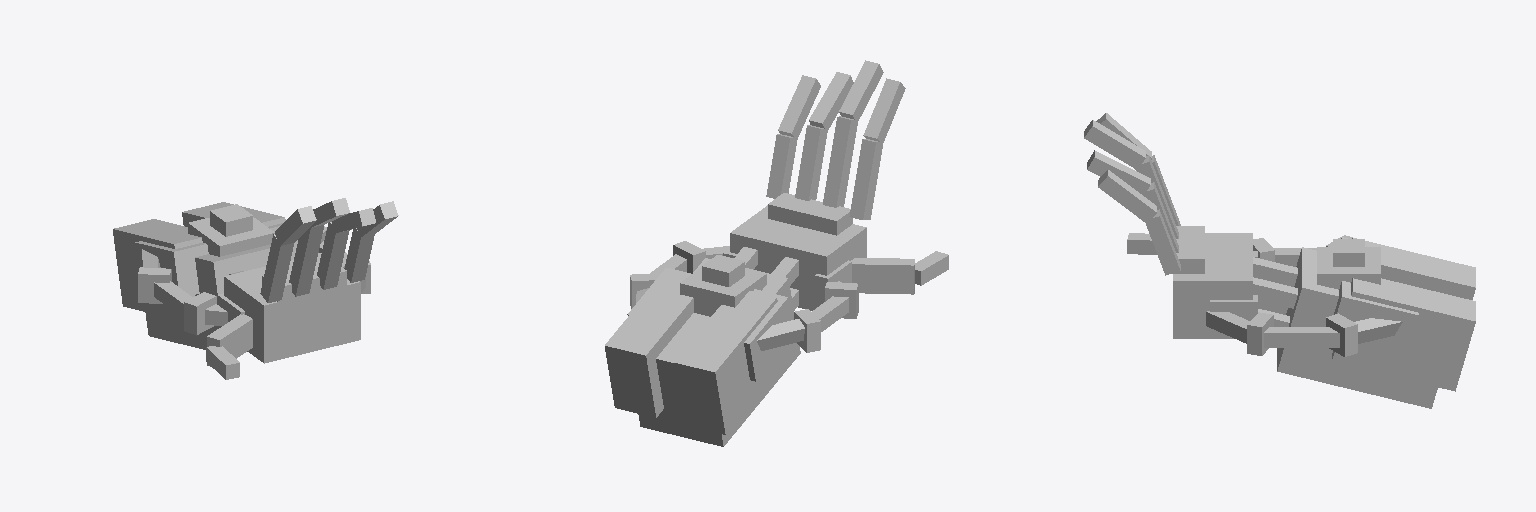
Rendered from powerfistLeftFiring.obj.
The picture shows the model from 3 angles: view 1: azimuth 30°, elevation 25°; view 2: azimuth 150°, elevation 25°; view 3: azimuth 270°, elevation 25°; orthographic projection.
Parts seen in each view (by area): view 1: palm, armorright, mainarm, supportbaseright, crystalholder, middlefinger1, index1, ringfinger1, thumb1, fingerguard, crystal, pinky1 (+9 smaller); view 2: armorright, armorleft, palm, mainarm, fingerguard, thumb1, crystalholder, middlefinger1, index1, supportbaseright, ringfinger1, index2 (+12 smaller); view 3: armorleft, mainarm, palm, armorright, supportbaseleft, crystalholder, supportleft3, middlefinger2, pinky2, fingerguard, pinky1, ringfinger2 (+10 smaller).
Boxes of the visible parts, box(x1,y1,x2,y2) form: palm: box(224, 253, 360, 363); armorright: box(113, 219, 202, 321); mainarm: box(145, 242, 296, 349); supportbaseright: box(135, 241, 208, 295); crystalholder: box(188, 217, 274, 256); middlefinger1: box(289, 225, 323, 296); index1: box(260, 234, 293, 302); ringfinger1: box(317, 222, 349, 289); thumb1: box(207, 314, 252, 366); fingerguard: box(262, 262, 346, 316); crystal: box(210, 204, 252, 236); pinky1: box(344, 228, 374, 282); armorright: box(674, 291, 786, 434); armorleft: box(605, 270, 693, 417); palm: box(730, 205, 866, 310); mainarm: box(638, 258, 800, 446); fingerguard: box(768, 193, 852, 235); thumb1: box(851, 258, 914, 294); crystalholder: box(680, 267, 766, 316); middlefinger1: box(823, 116, 857, 207); index1: box(849, 139, 883, 219); supportbaseright: box(744, 289, 791, 381); ringfinger1: box(795, 125, 827, 200); index2: box(863, 78, 905, 141); armorleft: box(1332, 278, 1475, 391); mainarm: box(1277, 247, 1437, 408); palm: box(1173, 233, 1252, 338); armorright: box(1352, 238, 1475, 299); supportbaseleft: box(1334, 281, 1418, 356); crystalholder: box(1317, 247, 1380, 289); supportleft3: box(1264, 327, 1339, 347); middlefinger2: box(1084, 120, 1145, 168); pinky2: box(1098, 170, 1156, 223); fingerguard: box(1173, 226, 1204, 273); pinky1: box(1145, 209, 1180, 275); ringfinger2: box(1087, 150, 1150, 192).
Bounding box in the file's own units: 0.9539 × 1.1 × 1.53.